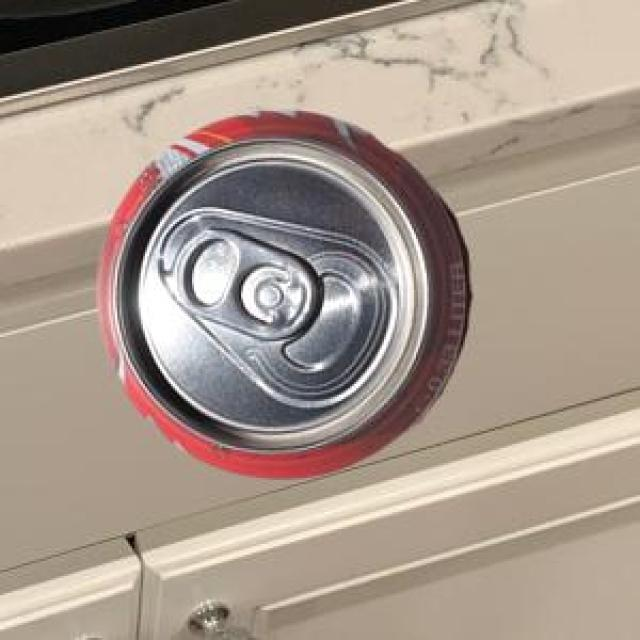Can: (95, 108, 468, 475)
